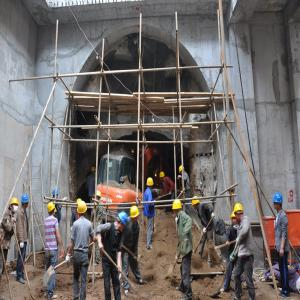blue: (116, 212, 128, 233), (273, 192, 284, 212), (21, 194, 30, 210), (53, 189, 59, 200)
yellow: (9, 198, 20, 215), (173, 199, 183, 217), (235, 203, 244, 222), (131, 207, 141, 223), (78, 201, 87, 218), (192, 196, 201, 211), (48, 203, 56, 217), (231, 212, 238, 226), (148, 178, 155, 190), (96, 191, 103, 202), (179, 166, 185, 176), (161, 172, 166, 182), (92, 167, 97, 175)
